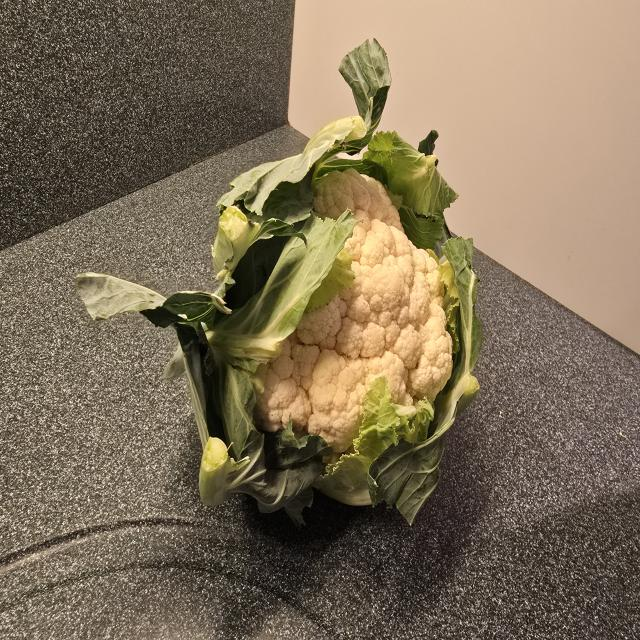Cauliflower: (166, 115, 490, 524)
